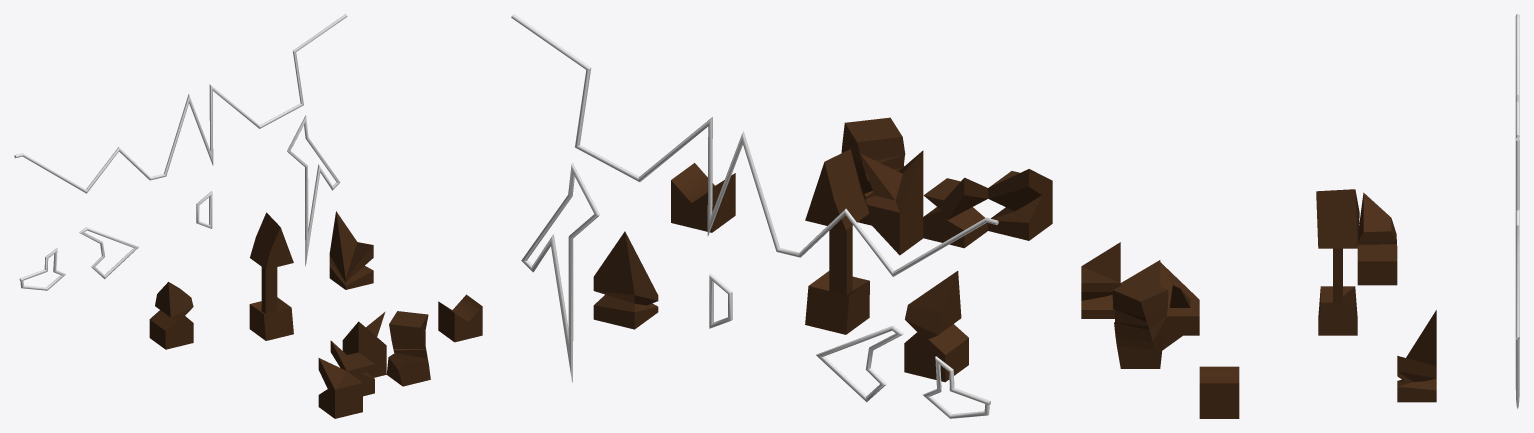
Rendered from New Level_Path_Tomestones_01.FBX.
The picture shows the model from 3 angles, left to right: view 1: azimuth 30°, elevation 25°; view 2: azimuth 150°, elevation 25°; view 3: azimuth 270°, elevation 25°; orthographic projection. The views are drawn at different scales.
Visible parts, largest first — view 1: Line001, Box034, Box029, Box032, Box030, Box033, Box031, Box035, Box036; view 2: Line001, Box034, Box030, Box035, Box032, Box033, Box036, Box031, Box029; view 3: Box034, Box029, Box030, Box032, Box033, Box031, Box035, Line001, Box036.
Boxes of the visible parts, bbox=[...] form: Line001: bbox=[14, 14, 347, 290]; Box034: bbox=[249, 212, 293, 340]; Box029: bbox=[386, 311, 430, 386]; Box032: bbox=[329, 211, 373, 289]; Box030: bbox=[149, 282, 193, 349]; Box033: bbox=[318, 358, 362, 418]; Box031: bbox=[438, 294, 482, 342]; Box035: bbox=[342, 311, 386, 377]; Box036: bbox=[330, 340, 374, 396]; Line001: bbox=[511, 14, 998, 418]; Box034: bbox=[805, 149, 869, 334]; Box030: bbox=[904, 271, 968, 382]; Box035: bbox=[860, 150, 923, 255]; Box032: bbox=[593, 231, 658, 329]; Box033: bbox=[988, 169, 1052, 240]; Box036: bbox=[923, 177, 987, 248]; Box031: bbox=[671, 163, 735, 232]; Box029: bbox=[841, 117, 905, 225]; Box034: bbox=[1316, 189, 1359, 335]; Box029: bbox=[1112, 278, 1168, 368]; Box030: bbox=[1357, 192, 1397, 285]; Box032: bbox=[1397, 310, 1436, 402]; Box033: bbox=[1081, 242, 1120, 318]; Box031: bbox=[1199, 366, 1239, 418]; Box035: bbox=[1160, 262, 1199, 350]; Line001: bbox=[1515, 14, 1519, 408]; Box036: bbox=[1120, 260, 1160, 285].
Bounding box in the file's own units: 240 × 165 × 221.
